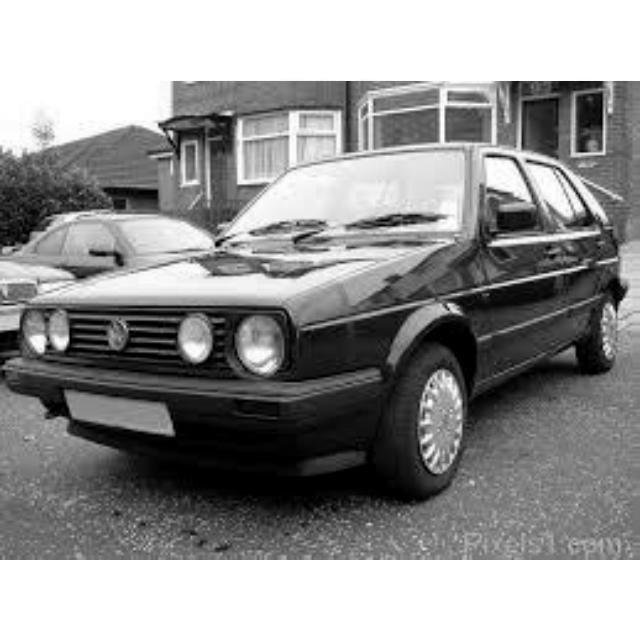fender-dent: (351, 239, 481, 330)
